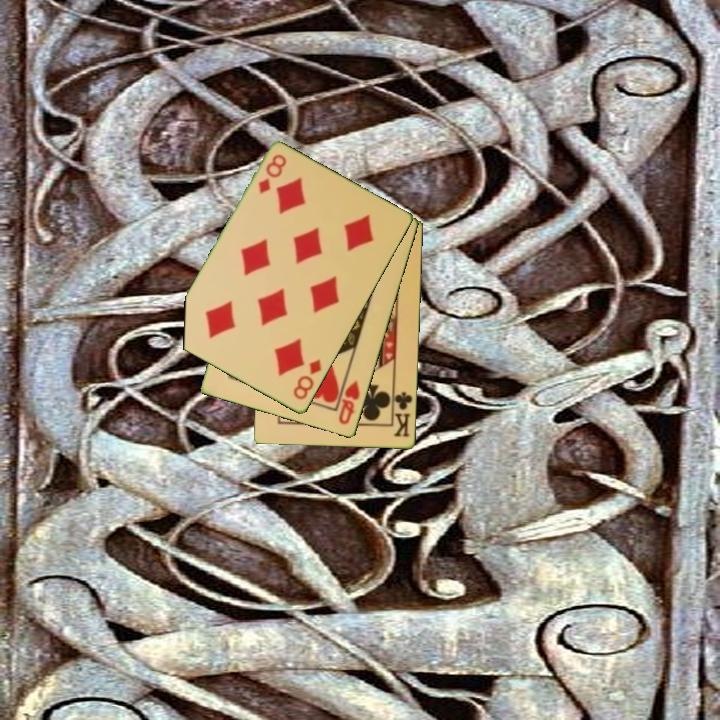8d: (289, 356, 325, 403), (255, 151, 290, 197)
Kc: (389, 386, 415, 440)
Qh: (335, 377, 363, 428)
